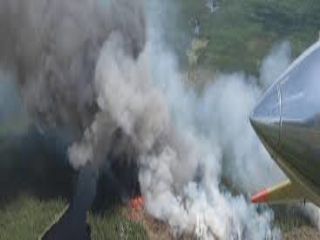smoke: (19, 14, 266, 230)
